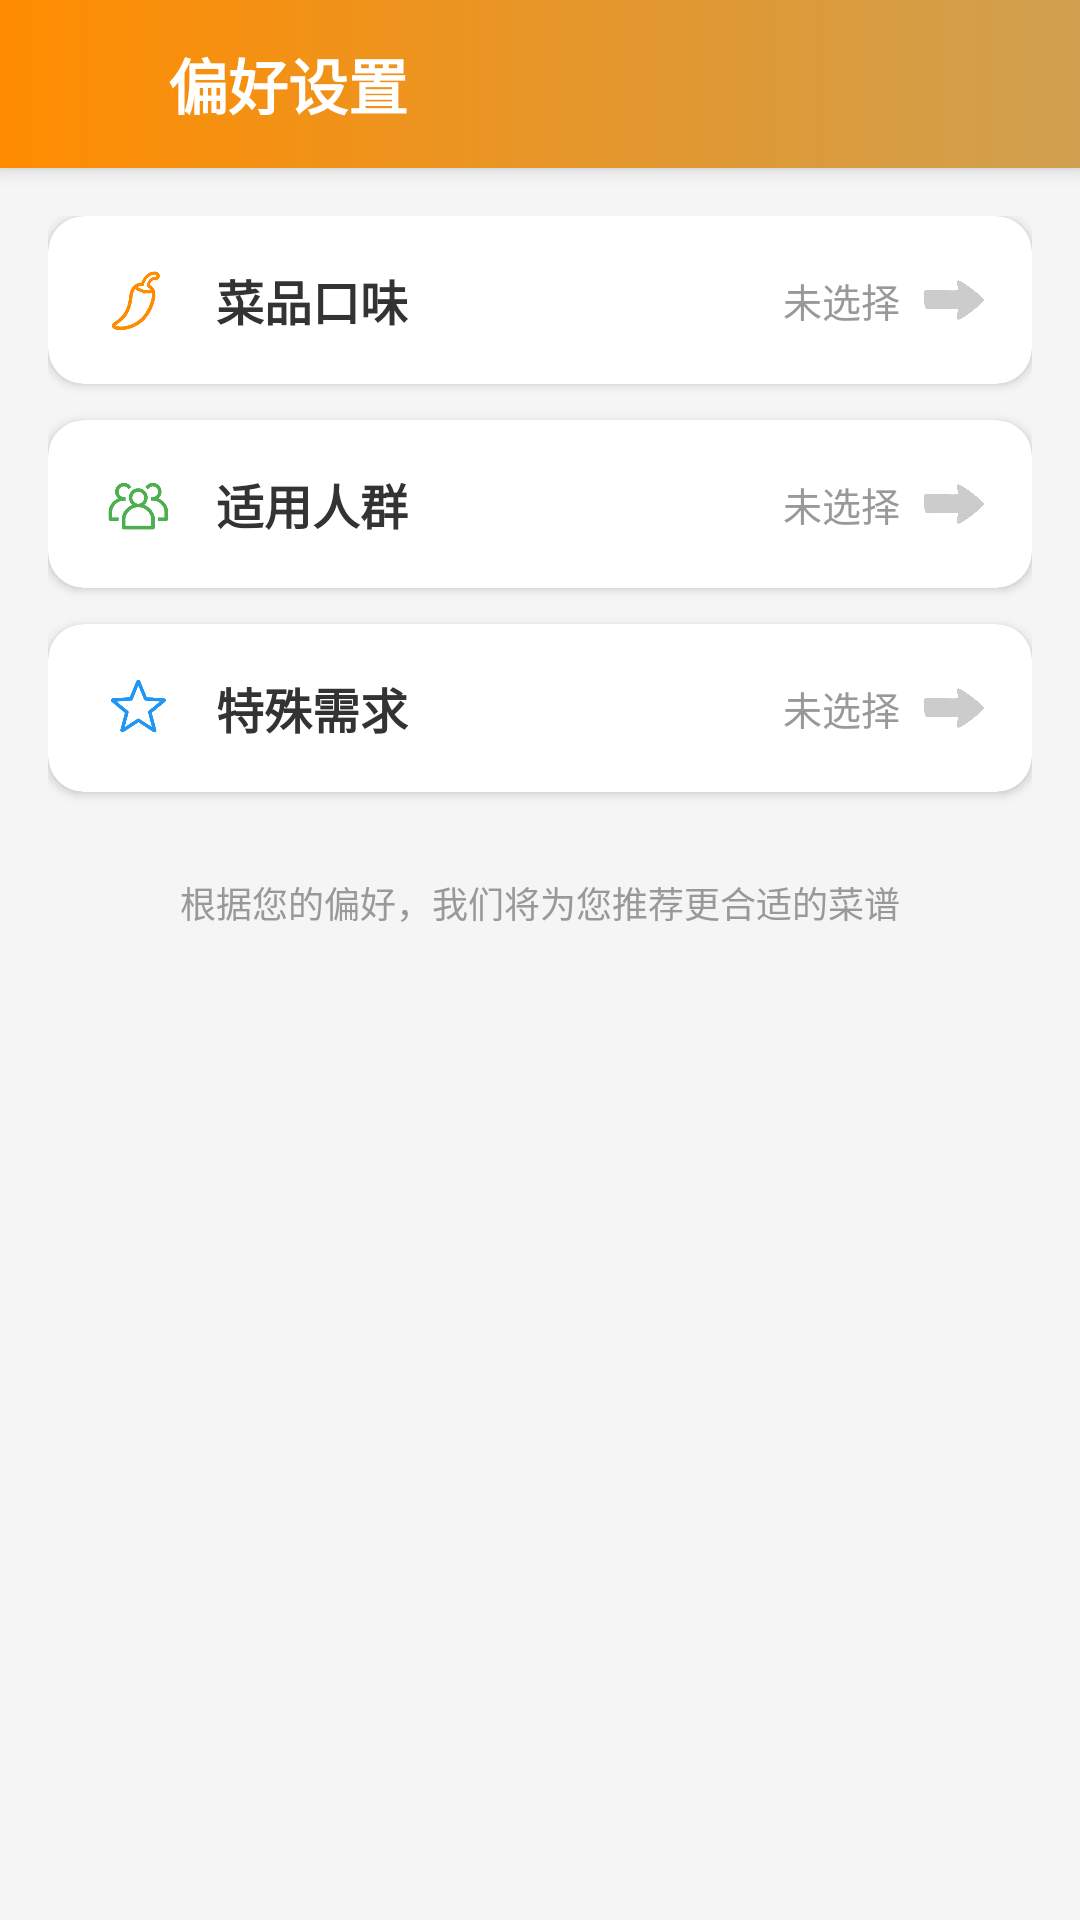

Screen size 1080 x 1920. Icon name, then its box in pixels as (x1, y1, x2, y2):
people: (108, 483, 168, 530)
right arrow: (924, 280, 984, 320), (924, 484, 984, 524), (924, 688, 984, 728)
special: (111, 680, 166, 733)
taste: (112, 271, 160, 330)
